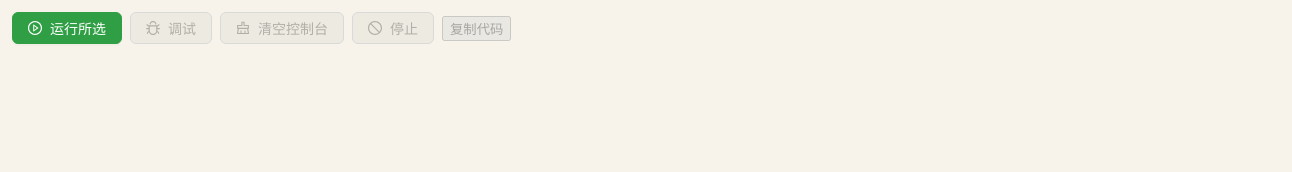
Test case: RunControls (Requirements 7.4, 12.7) › runs and shows the success state (R12.7)
Click the button labelled "运行所选".
click(67, 28)  # box 12,12 -> 122,44
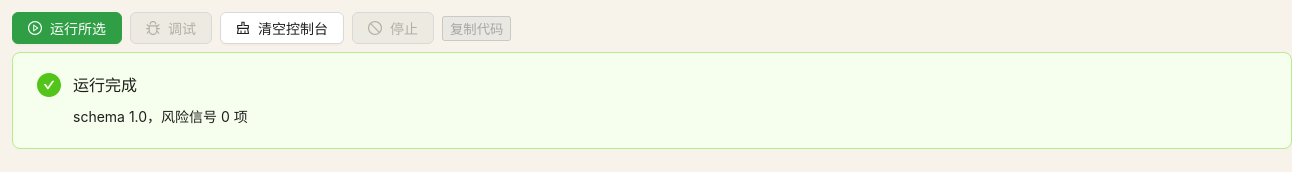
Result: the text "运行完成" is shown at 73,75 -> 137,95
